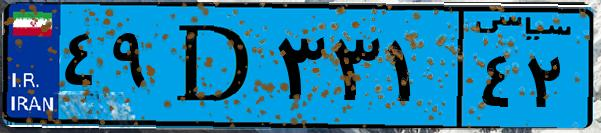1: (385, 28, 445, 110)
2: (525, 38, 570, 115)
3: (270, 28, 330, 110), (330, 28, 385, 110)
4: (57, 26, 110, 100), (475, 38, 525, 113)
9: (110, 28, 158, 98)
D: (158, 12, 270, 120)
